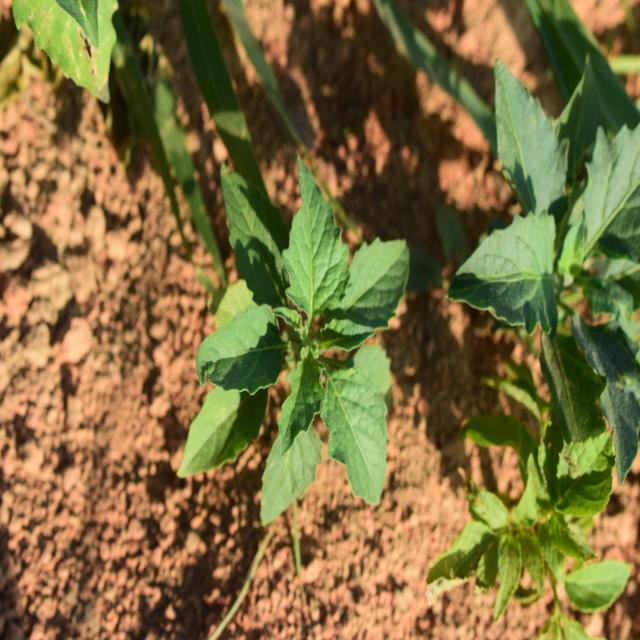Black_nightshade: (196, 184, 409, 514), (454, 78, 638, 437)
